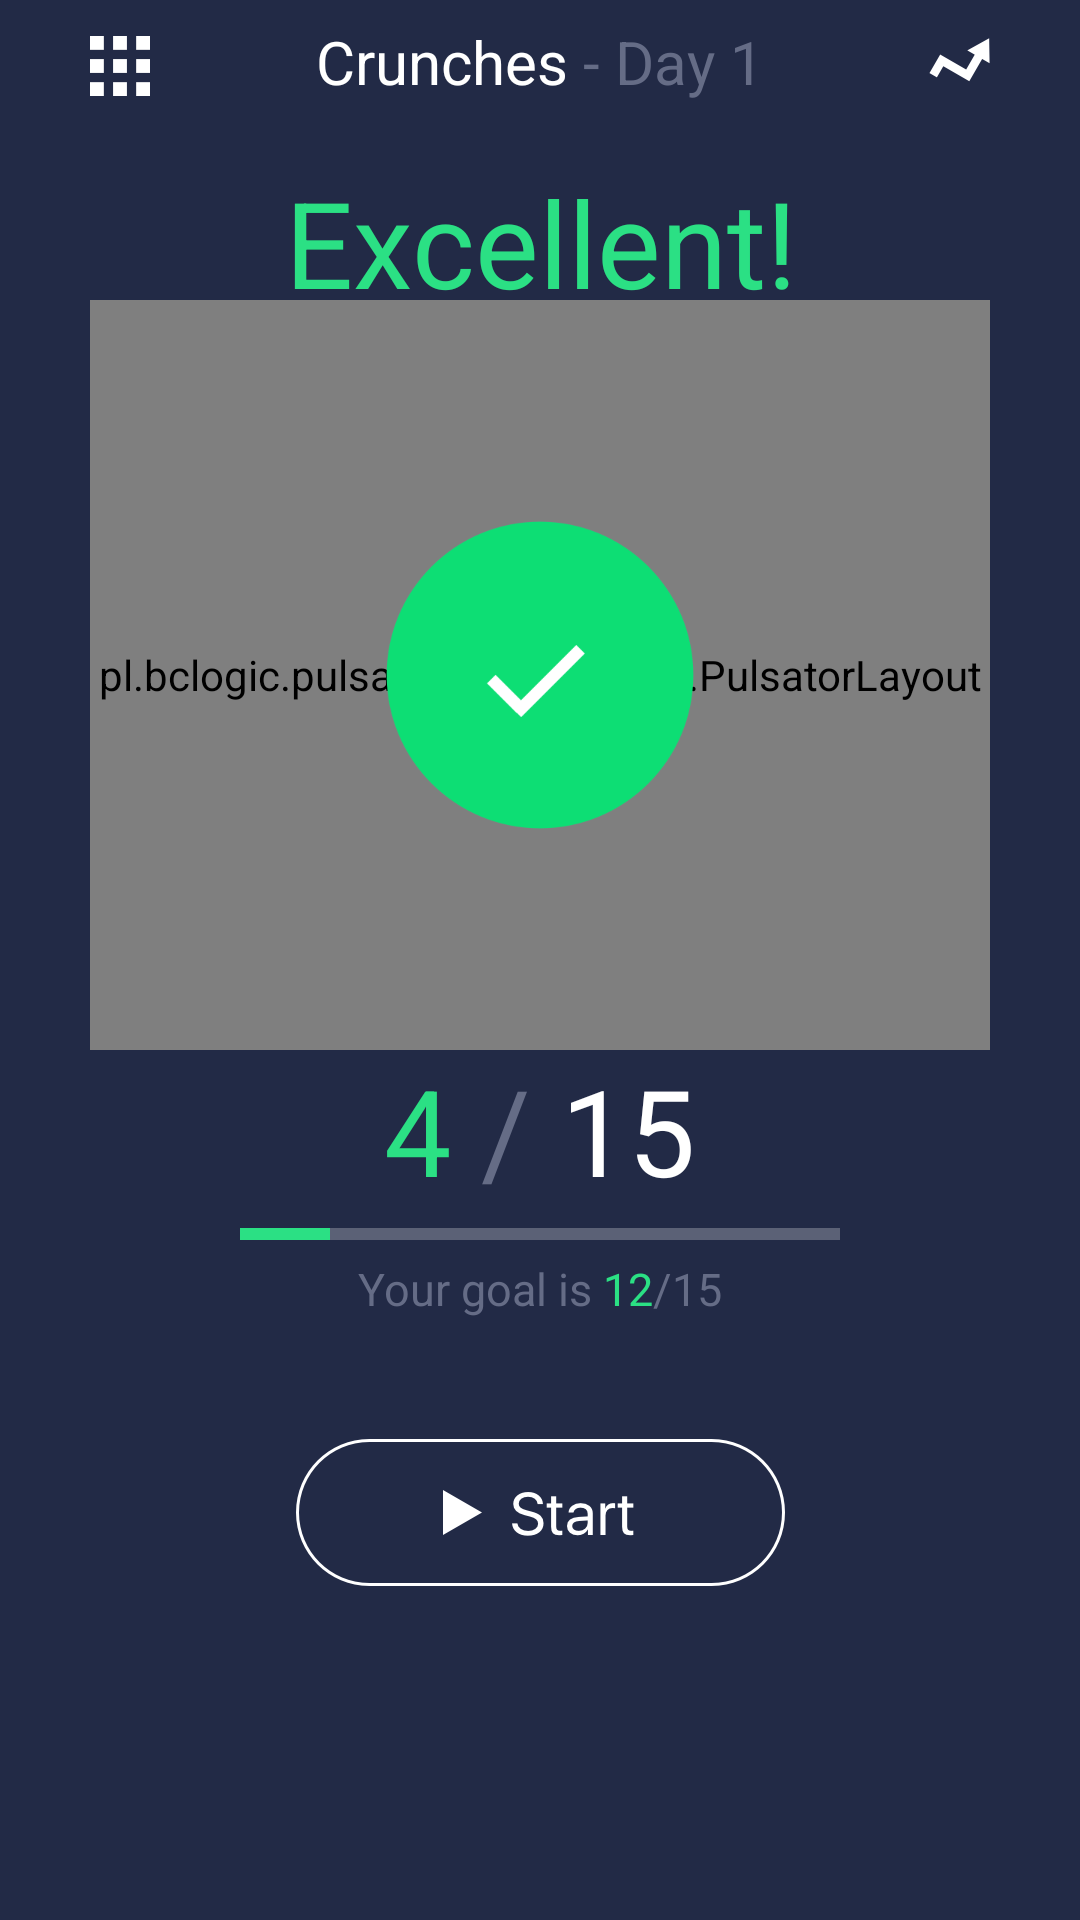

Icons on this 1080x1920 Android screen, each with the point to tap as point (x, y):
menu: point (120, 66)
progress: point (959, 59)
